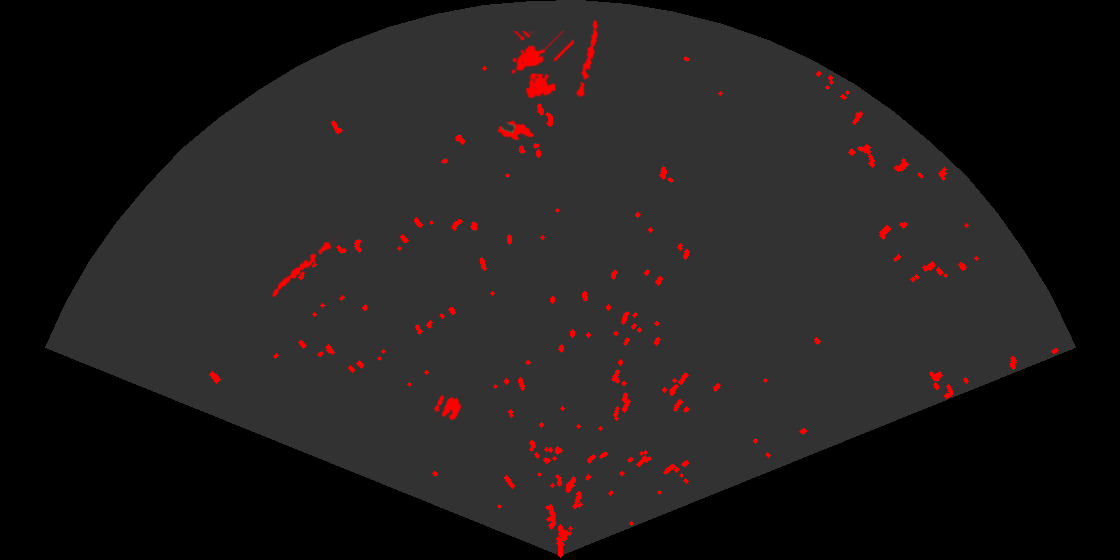AUV: (496, 119, 536, 142)
ball: (433, 394, 463, 422)
cage: (510, 31, 574, 100)
chain: (270, 235, 337, 299), (575, 18, 600, 101)
